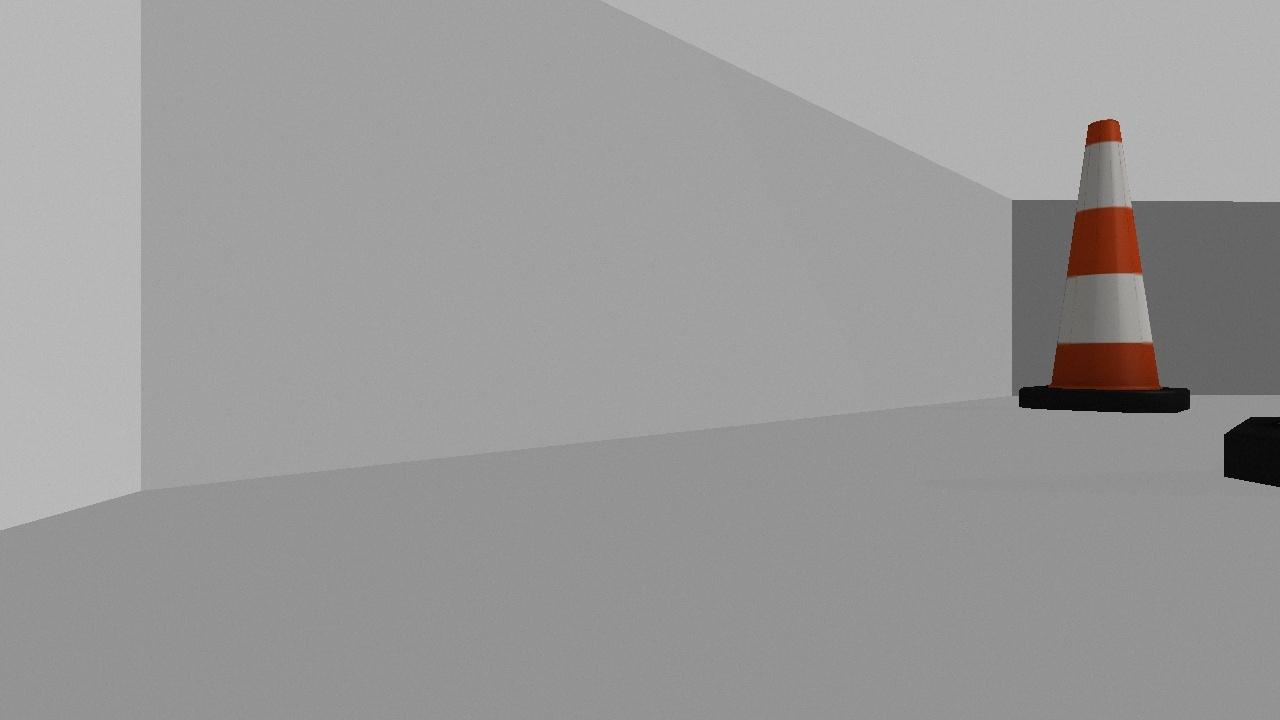cone_barrel: (1009, 94, 1209, 431)
